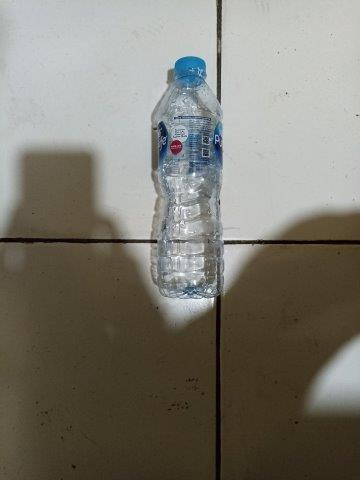botolplastik: (157, 55, 222, 295)
